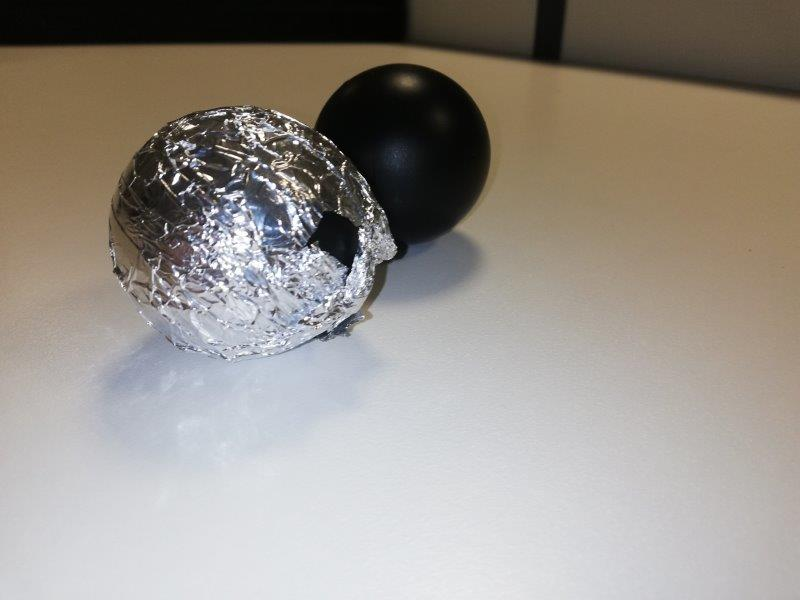bianca: (108, 102, 382, 357)
nera: (317, 64, 491, 240)
